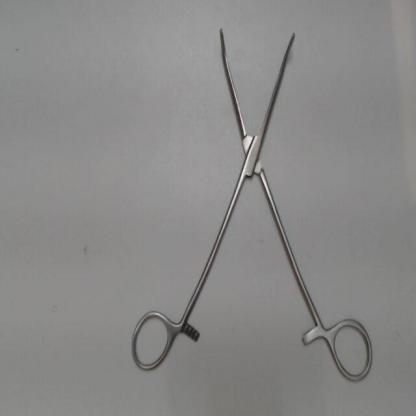Lahey Forceps: (123, 20, 381, 387)
